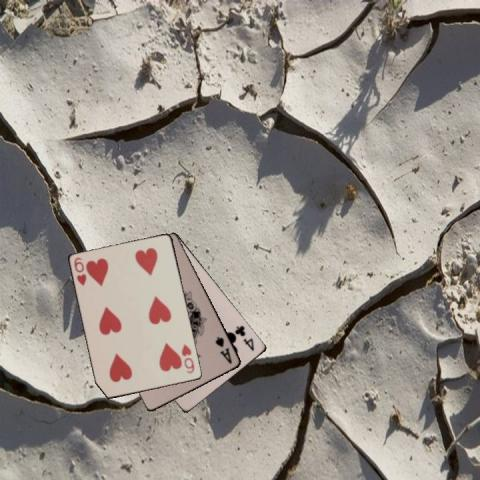4c: (232, 323, 256, 352)
6h: (179, 341, 196, 375), (71, 255, 88, 287)
As: (213, 334, 233, 365)
